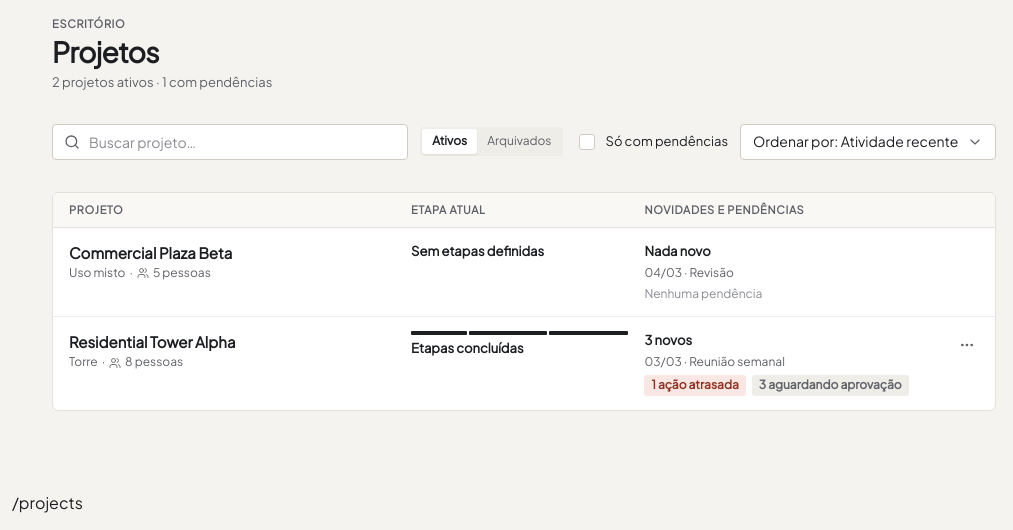
Test: Phase 3e › Projetos › filters to projects needing attention and searches without accents
Expected: the text "Commercial Plaza Beta" is shown, [69, 243, 232, 262]
Click the label "Só com pendências". click: coordinates (667, 142)
box: [606, 132, 728, 151]
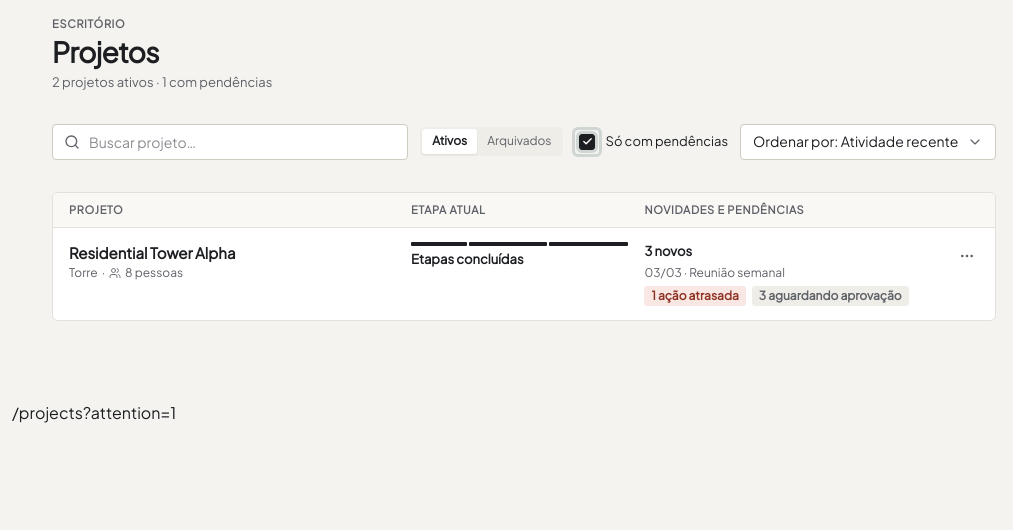
Expected: the button "Commercial Plaza Beta" is gone
Expected: the text with test id "where" shows "attention=1", [12, 402, 176, 424]
Click the text "Só com pendências". click: coordinates (667, 142)
box: [606, 132, 728, 151]
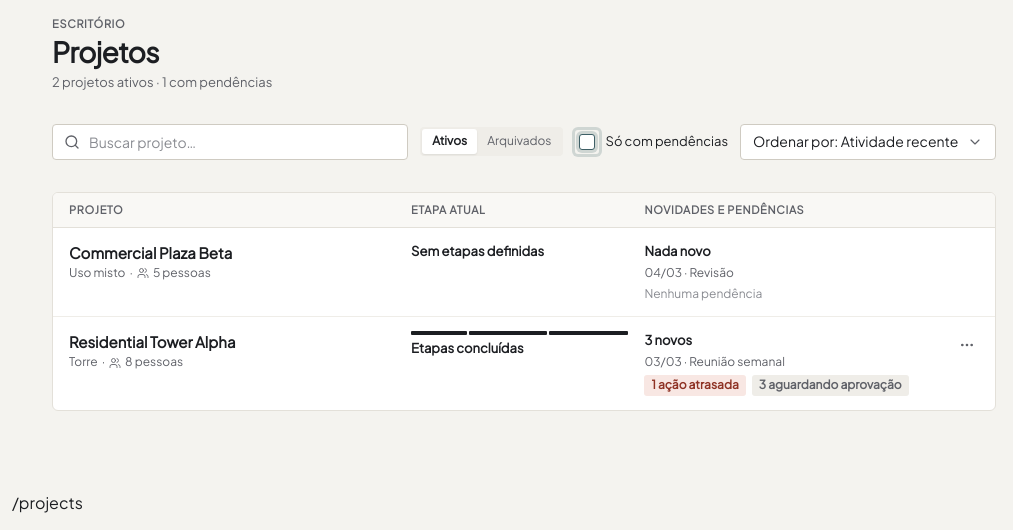
Type "plaza" into the field labelled "Buscar projeto…". click: coordinates (230, 142)
box: [52, 124, 408, 160]
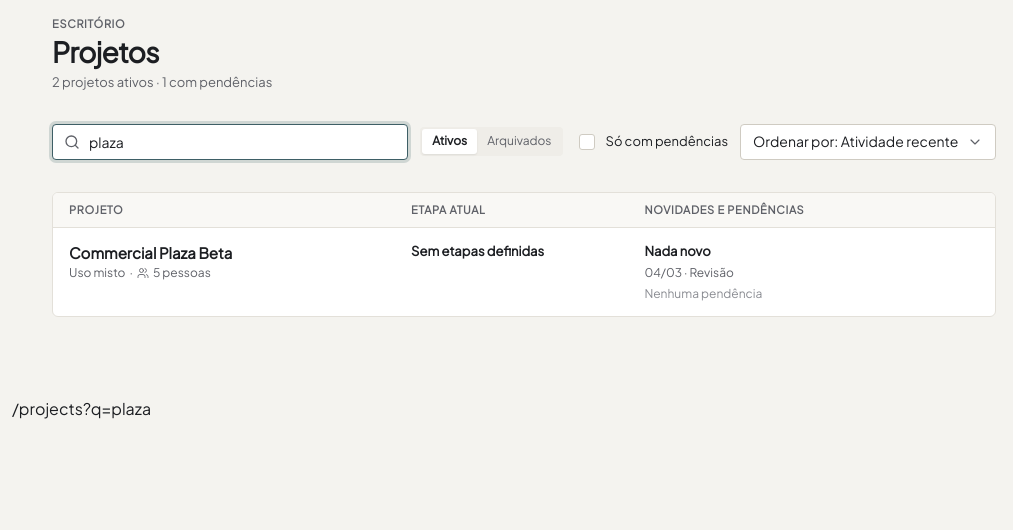
Expected: the button "Residential Tower Alpha" is gone
